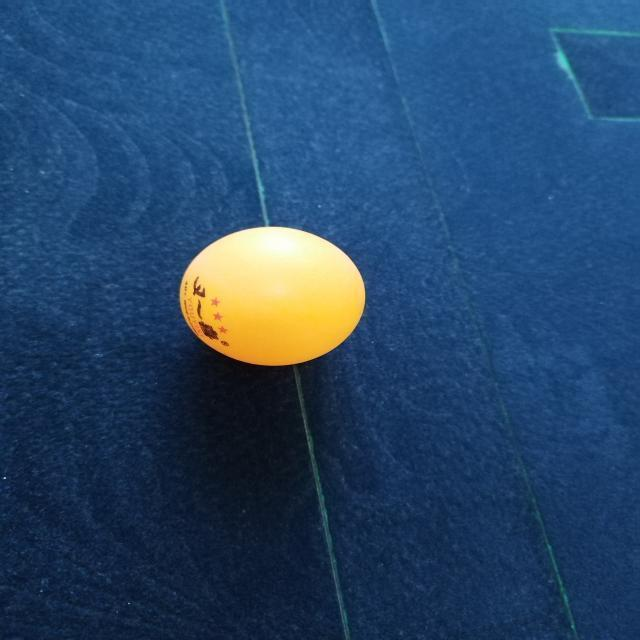ping-pong-ball: (182, 226, 366, 366)
